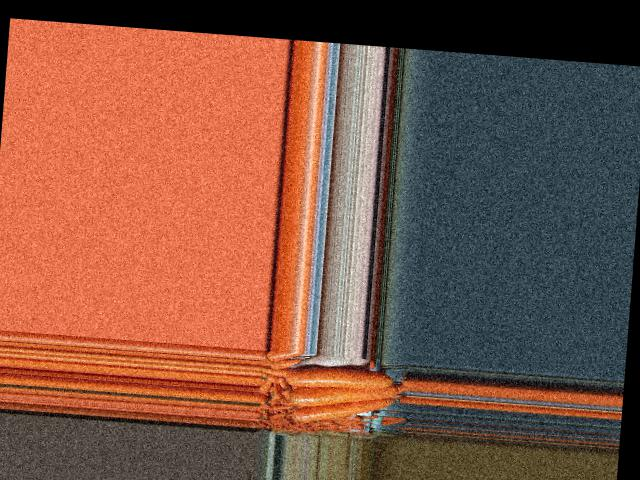carrot: (283, 365, 396, 399)
